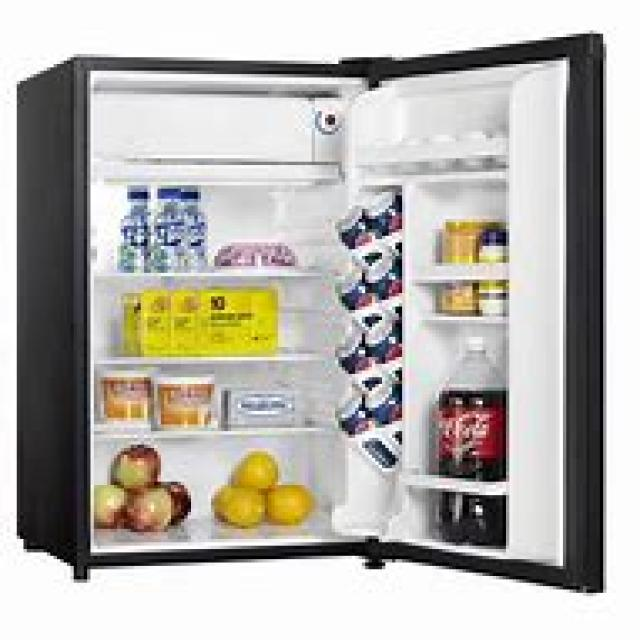fridge: (14, 30, 606, 593)
